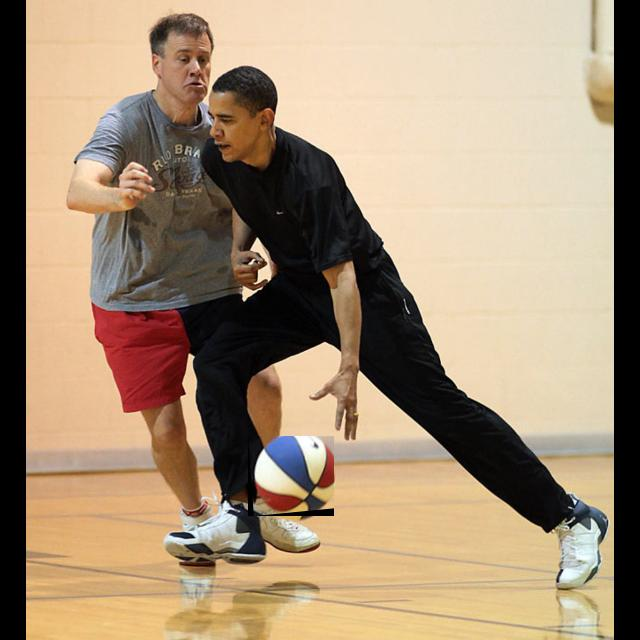Football: (248, 436, 334, 516)
